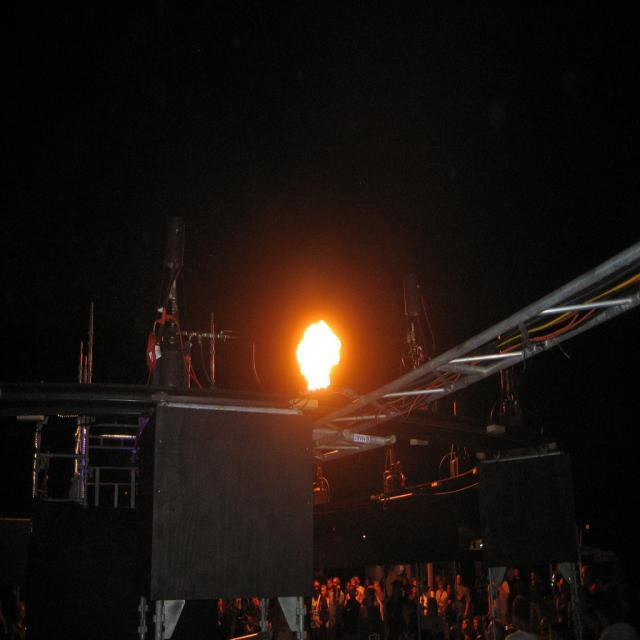Fire: (303, 315, 342, 390)
